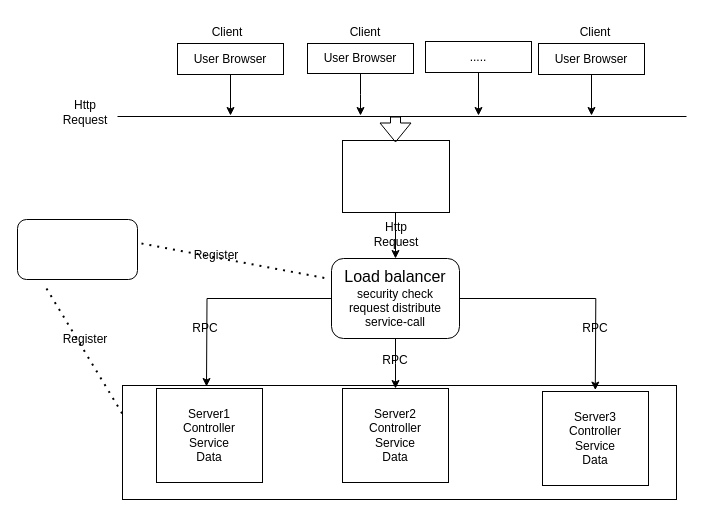
Image size: 705x517. Some labels were removed from this diagram. Each missing label, with the centre of its shape:
"Login/register UI Home UI Post UI Match UI Location UI" belongs at point (396, 176).
"Register-center" belongs at point (77, 249).
